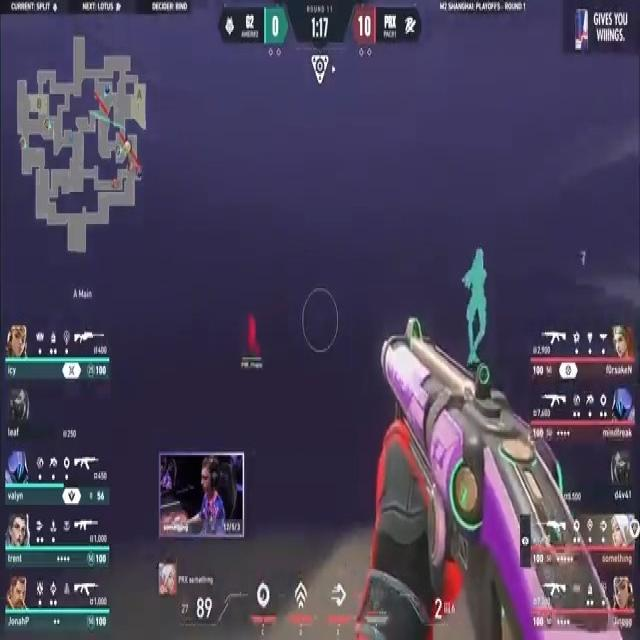ally behind wall: (456, 248, 494, 361)
enemy behind wall: (242, 302, 259, 363)
